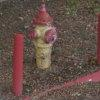Hydrant: (27, 4, 65, 73)
